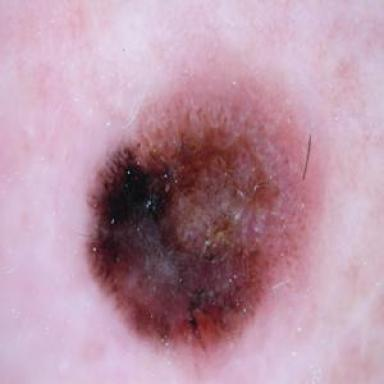Melanoma: (89, 85, 307, 349)
